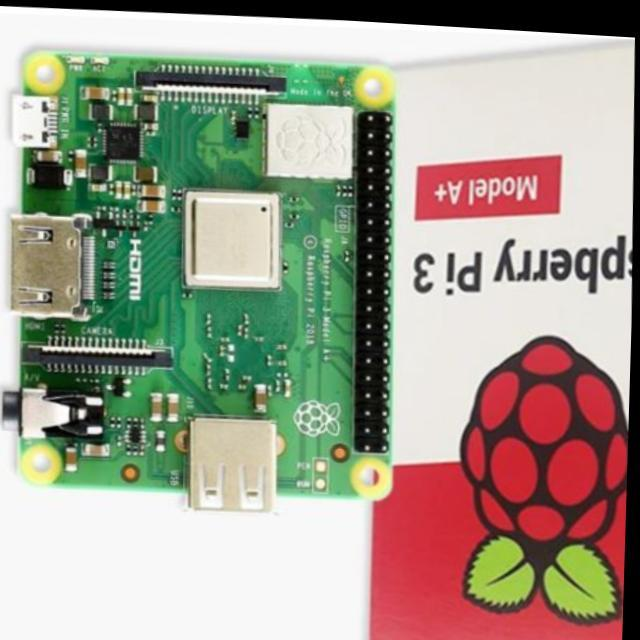Raspberry-Pi-3-A-: (12, 52, 394, 512)
